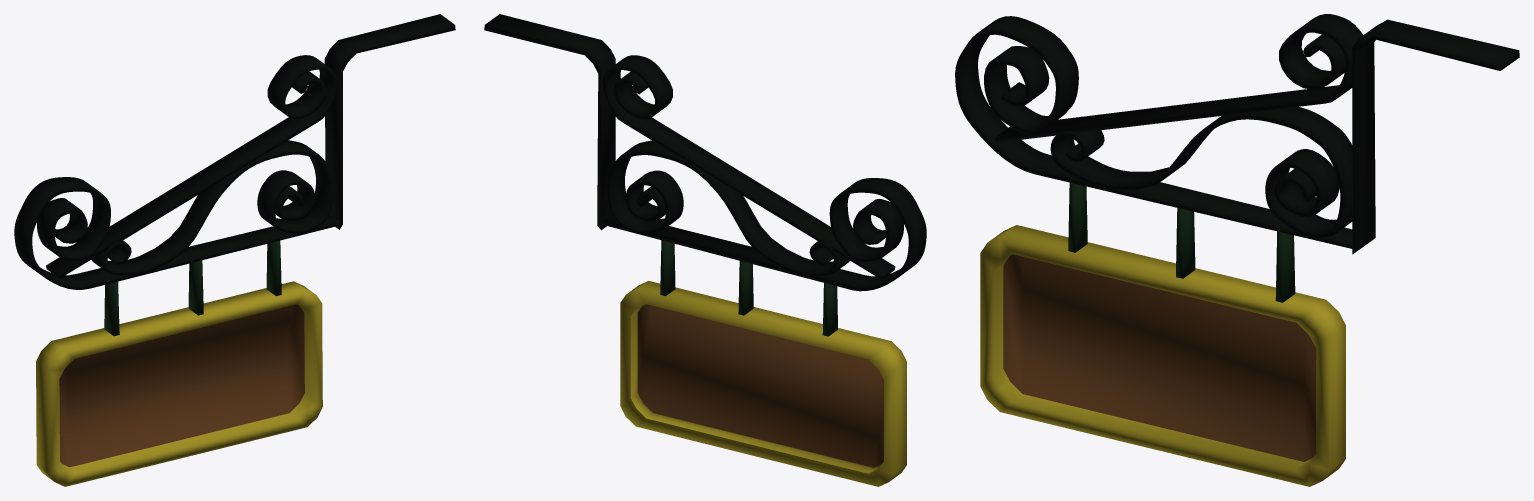
File: Sign.fbx
The picture shows the model from 3 angles, left to right: view 1: azimuth 30°, elevation 25°; view 2: azimuth 150°, elevation 25°; view 3: azimuth 330°, elevation 25°; orthographic projection. The views are drawn at different scales.
Visible parts, largest first — view 1: Sign; view 2: Sign; view 3: Sign.
Boxes of the visible parts, box(x1,y1,x2,y2) form: Sign: box(14, 14, 455, 486); Sign: box(484, 14, 926, 486); Sign: box(955, 14, 1519, 486).
Bounding box in the file's own units: 1.39 × 0.0876 × 1.14.
